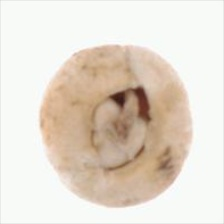L3: (86, 86, 150, 172)
L4: (40, 44, 193, 208)
